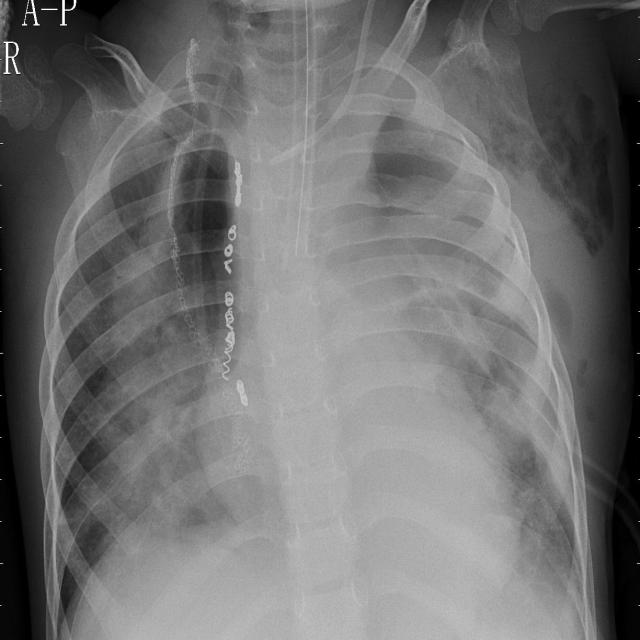high-pneumonia: (356, 212, 568, 505), (73, 370, 243, 539), (119, 45, 239, 218), (116, 209, 214, 371)
low-pneumonia: (382, 123, 543, 341), (506, 464, 587, 631)
